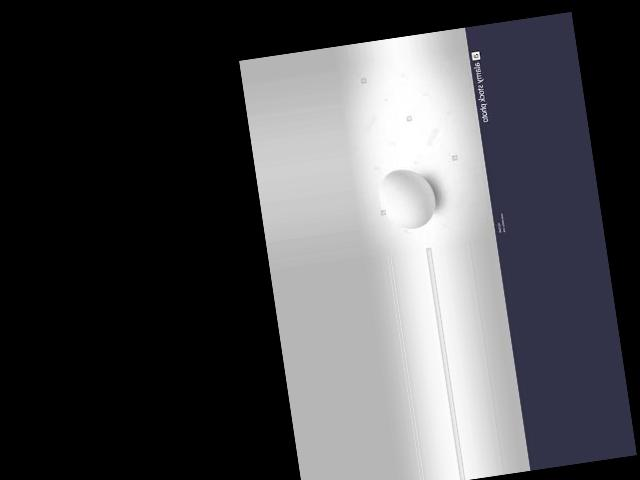egg: (377, 165, 439, 233)
